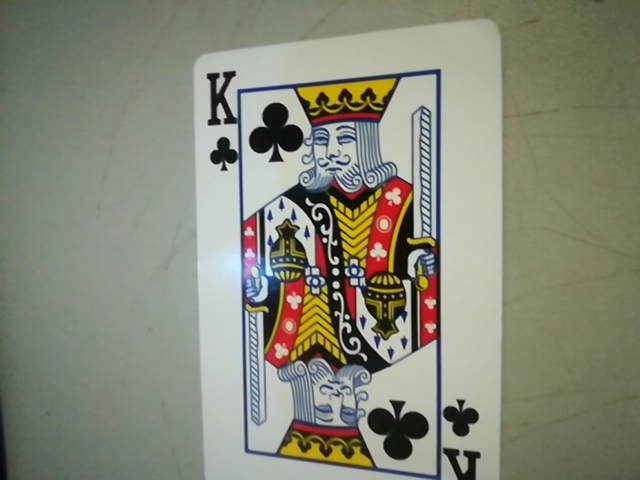mh k: (193, 63, 246, 174)
